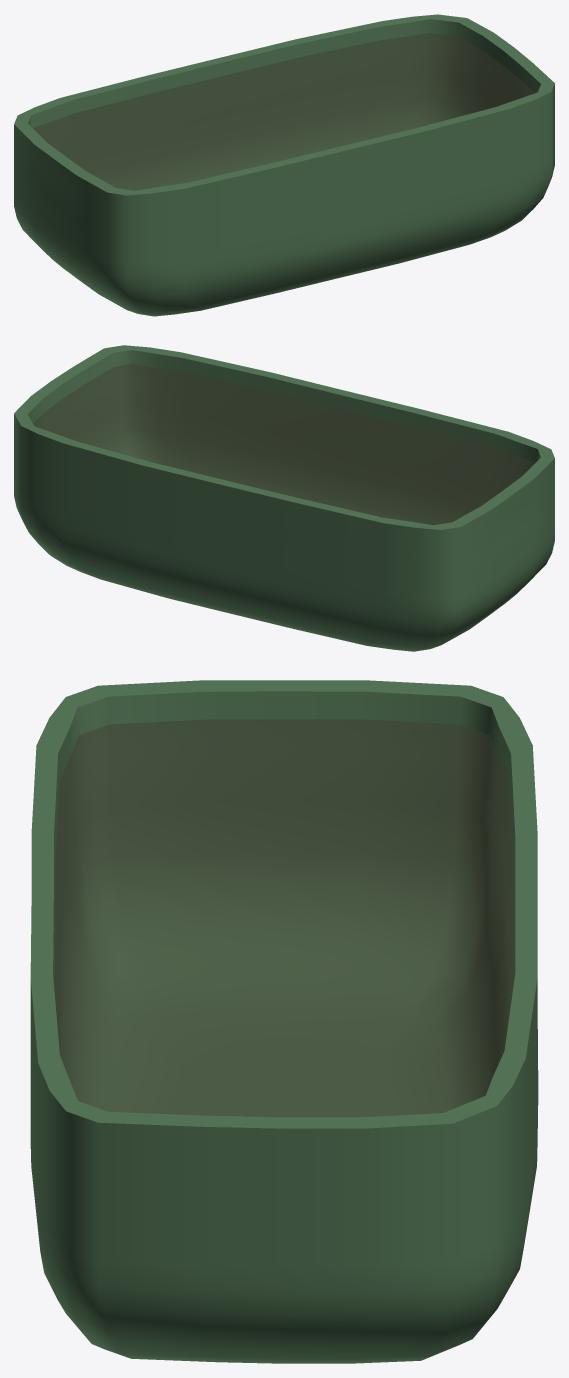
File: Plant_Plasma_Membrane.FBX
3 renders of one model, top to bottom at view 1: azimuth 30°, elevation 25°; view 2: azimuth 150°, elevation 25°; view 3: azimuth 270°, elevation 25°, orthographic. The views are drawn at different scales.
Visible parts, largest first — view 1: Plant_Cell_Plant_Membrane, Plant_Cell_Cell_Goo; view 2: Plant_Cell_Plant_Membrane, Plant_Cell_Cell_Goo; view 3: Plant_Cell_Plant_Membrane, Plant_Cell_Cell_Goo.
Part boxes in pixels (x1=…): Plant_Cell_Plant_Membrane: x1=14, y1=14, x2=554, y2=316; Plant_Cell_Cell_Goo: x1=33, y1=33, x2=534, y2=190; Plant_Cell_Plant_Membrane: x1=14, y1=345, x2=554, y2=651; Plant_Cell_Cell_Goo: x1=33, y1=364, x2=535, y2=524; Plant_Cell_Plant_Membrane: x1=30, y1=680, x2=538, y2=1363; Plant_Cell_Cell_Goo: x1=55, y1=719, x2=513, y2=1116.
Size of the model in its own units: 266 by 77.28 by 127.
